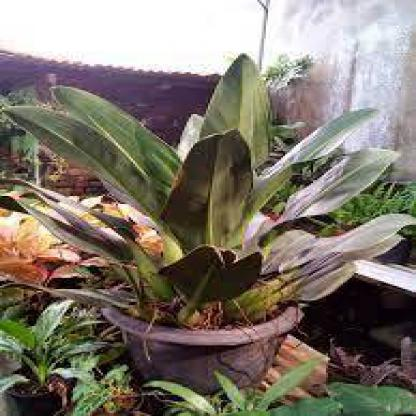Kenanga: (82, 164, 173, 262), (253, 66, 329, 143), (81, 293, 155, 365), (177, 120, 249, 179), (273, 195, 337, 260)
